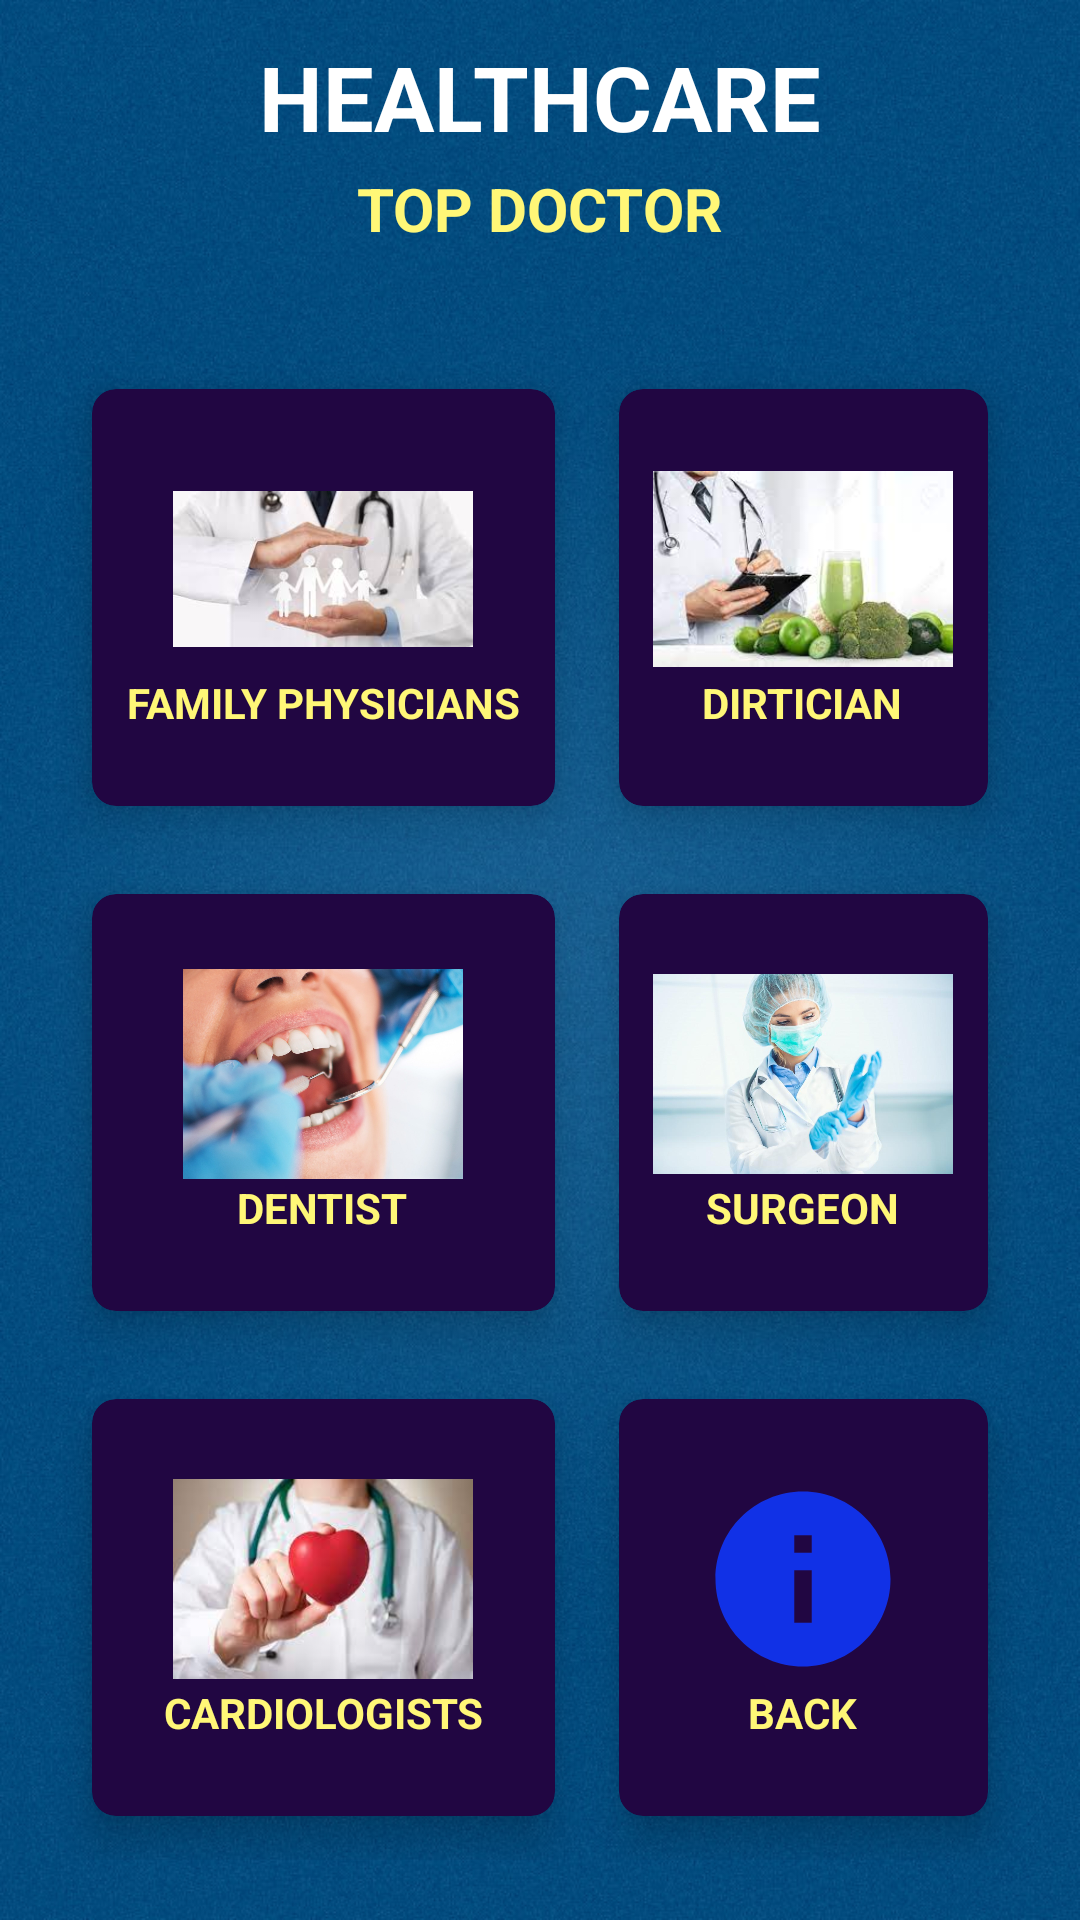

Named icons in this screenshot (1080*1920) and their bounding boxes, (x1, y1, x2, y2):
info: (715, 1491, 891, 1667)
